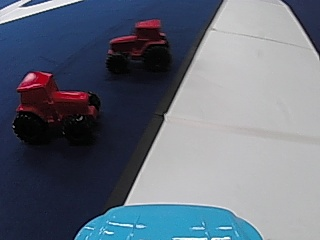tractor: (10, 67, 102, 145), (107, 17, 171, 74)
